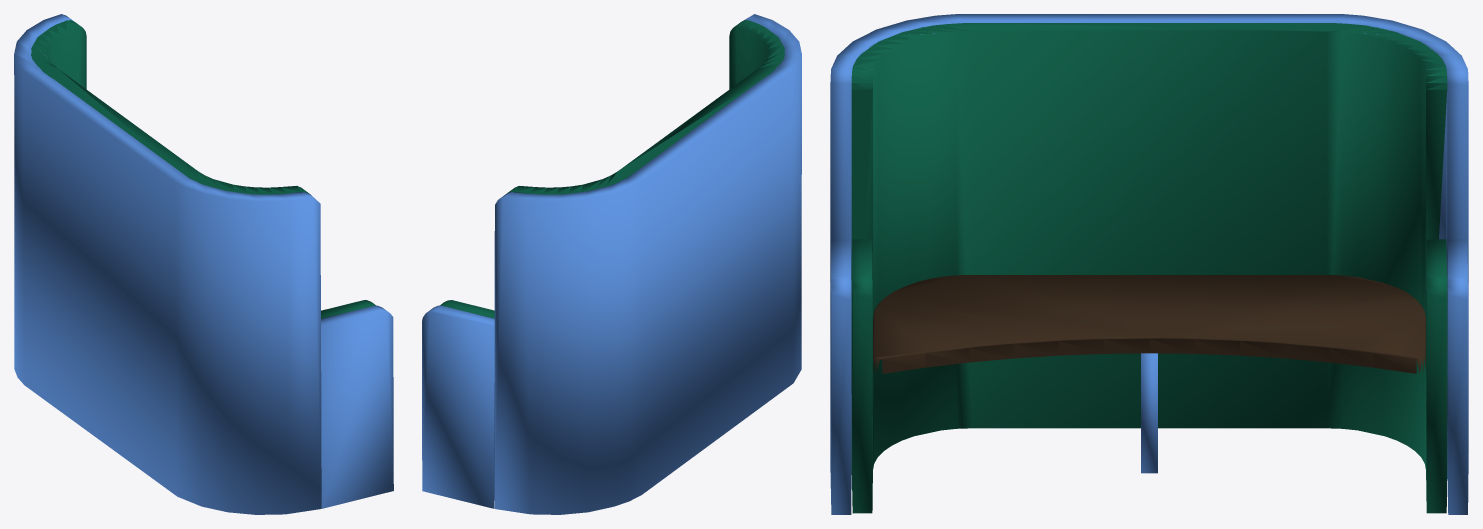
Rendered from ABC-41.obj.
3 renders of one model, left to right at view 1: azimuth 30°, elevation 25°; view 2: azimuth 150°, elevation 25°; view 3: azimuth 270°, elevation 25°, orthographic. The views are drawn at different scales.
Size of the model in its own units: 6.97 by 12.35 by 18.
